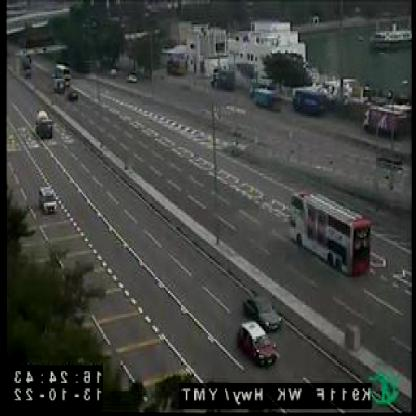Bus: (288, 190, 370, 276), (54, 65, 72, 88)
Car: (237, 320, 278, 368), (240, 295, 282, 333), (38, 184, 58, 214), (66, 86, 80, 100)
Truck: (32, 106, 54, 139)
